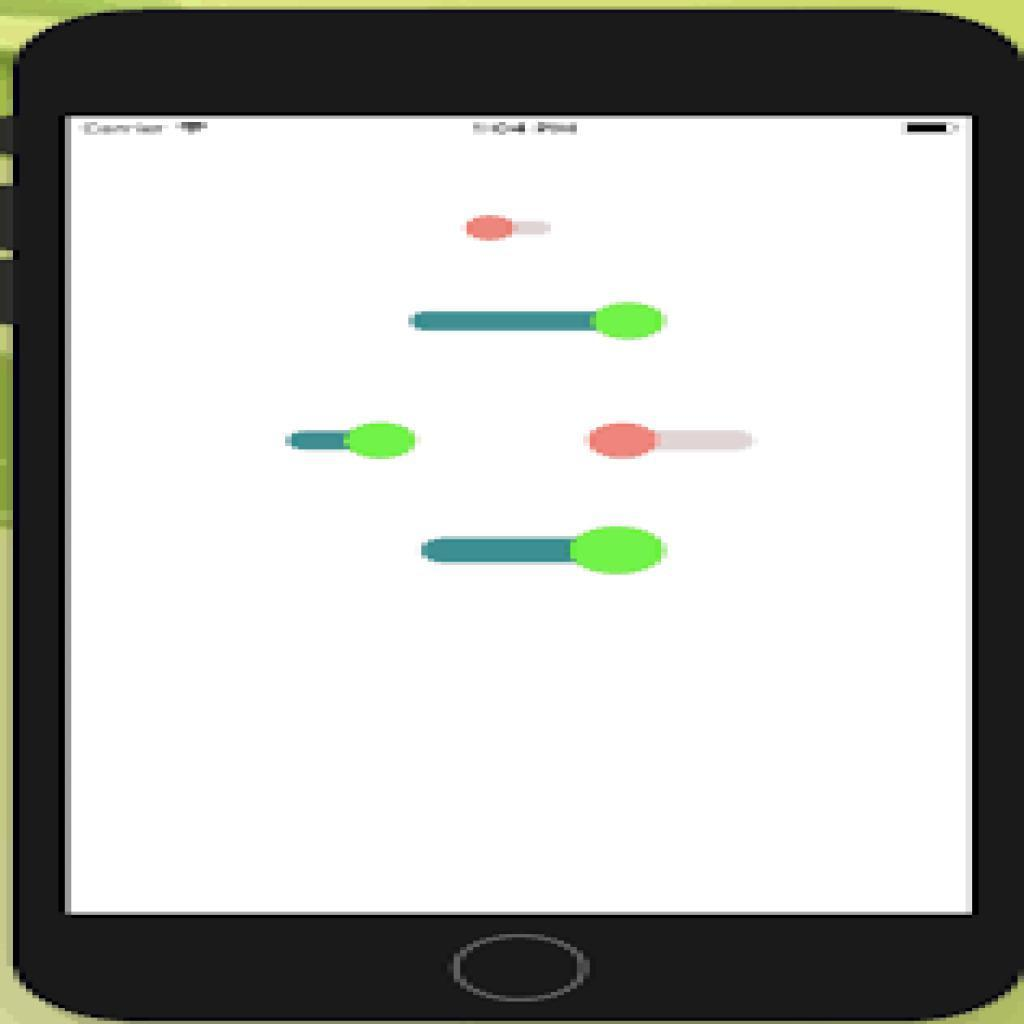switch: (423, 525, 665, 578), (411, 302, 670, 343), (588, 424, 756, 461), (284, 423, 419, 462), (463, 216, 555, 243)
